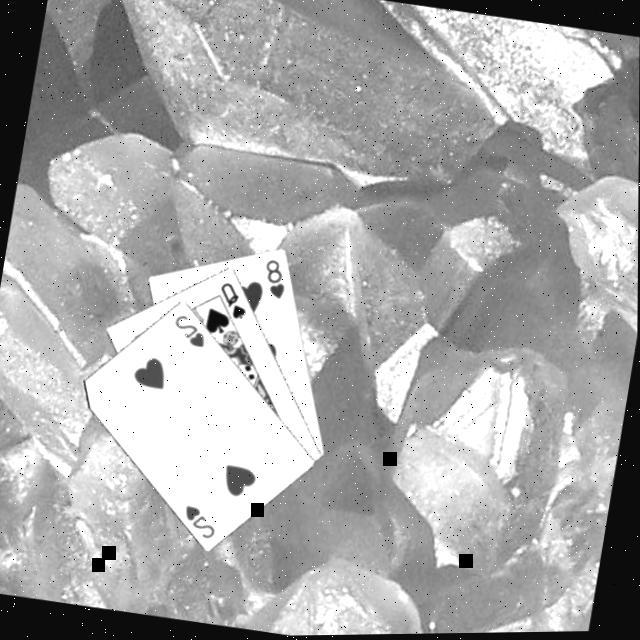2H: (176, 499, 221, 543), (167, 308, 210, 352)
8H: (256, 255, 292, 302)
QS: (210, 278, 252, 322)
